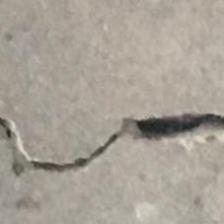Crack: (0, 60, 224, 224)
